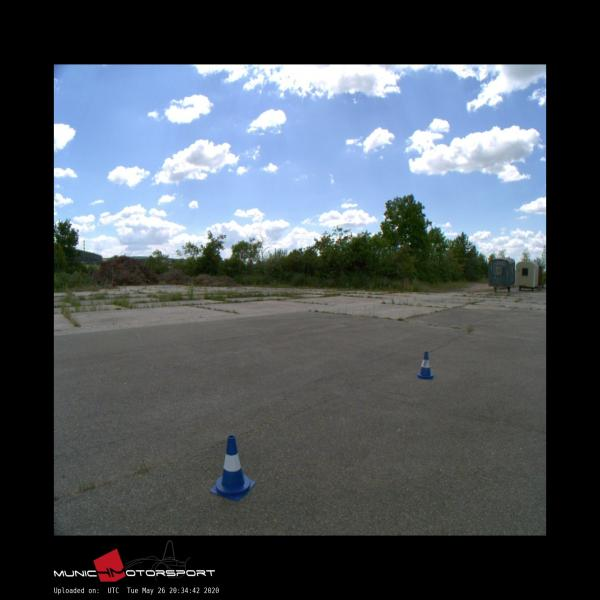blue_cone: (210, 435, 255, 501), (416, 352, 433, 379)
